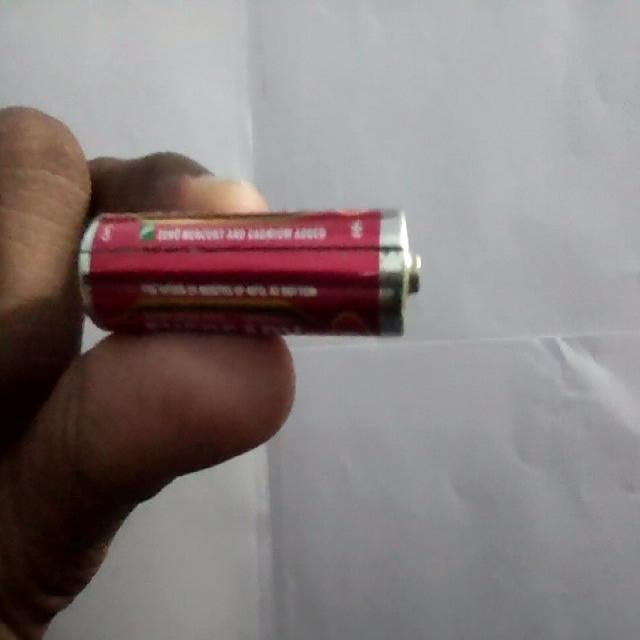battery: (74, 209, 421, 339)
crack: (77, 244, 403, 258)
objects: (75, 209, 404, 336)
